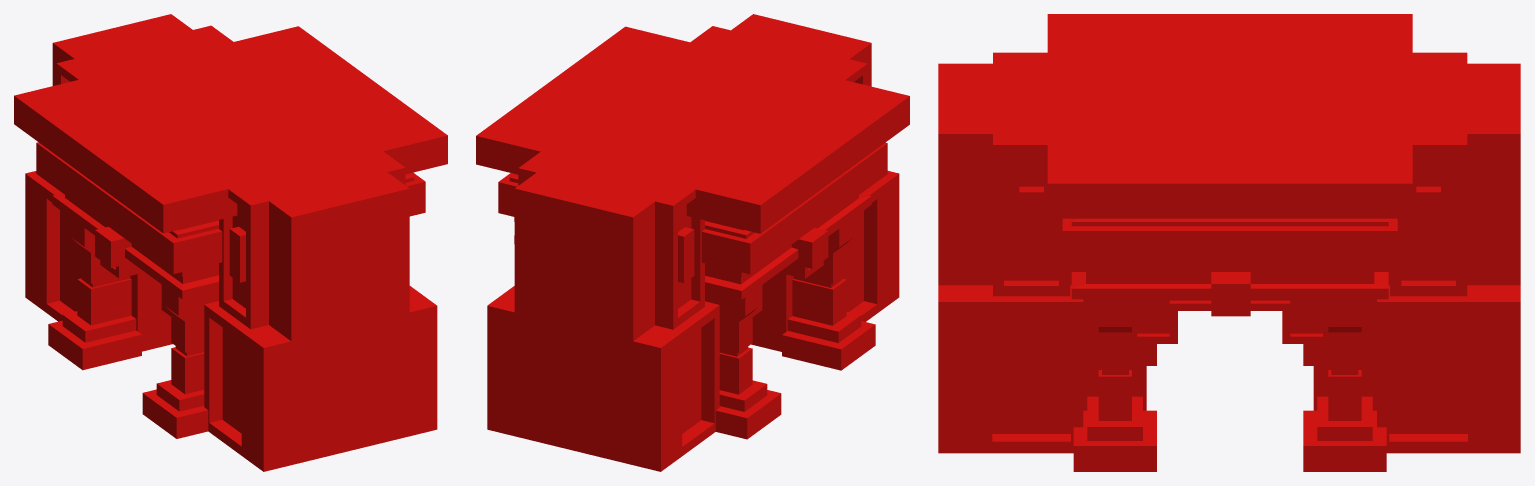
Rendered from PuertaGrandefbx.fbx.
3 views of the same model, side by side, from view 1: azimuth 30°, elevation 25°; view 2: azimuth 150°, elevation 25°; view 3: azimuth 270°, elevation 25° (orthographic). The views are drawn at different scales.
Visible parts, largest first — view 1: Cube.270; view 2: Cube.270; view 3: Cube.270.
Boxes of the visible parts, x1,y1,x2,y2 form: Cube.270: (14,14,447,471); Cube.270: (476,14,909,471); Cube.270: (938,14,1520,471).
Size of the model in its own units: 481 by 400 by 698.
